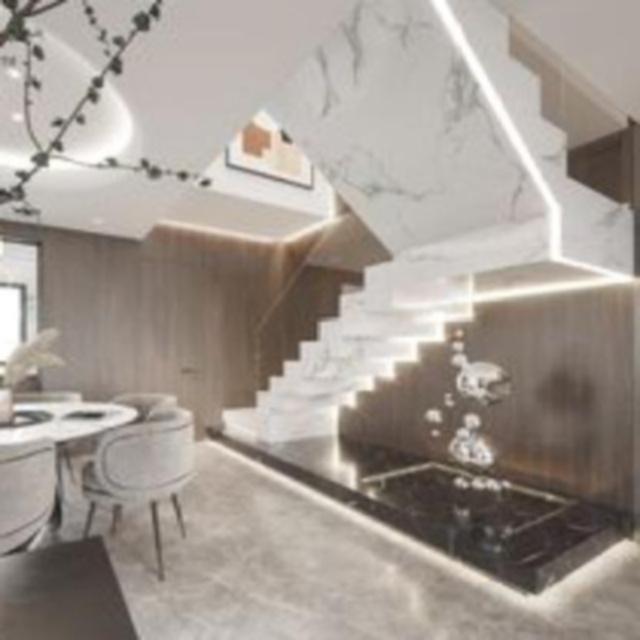stair: (210, 252, 439, 453)
